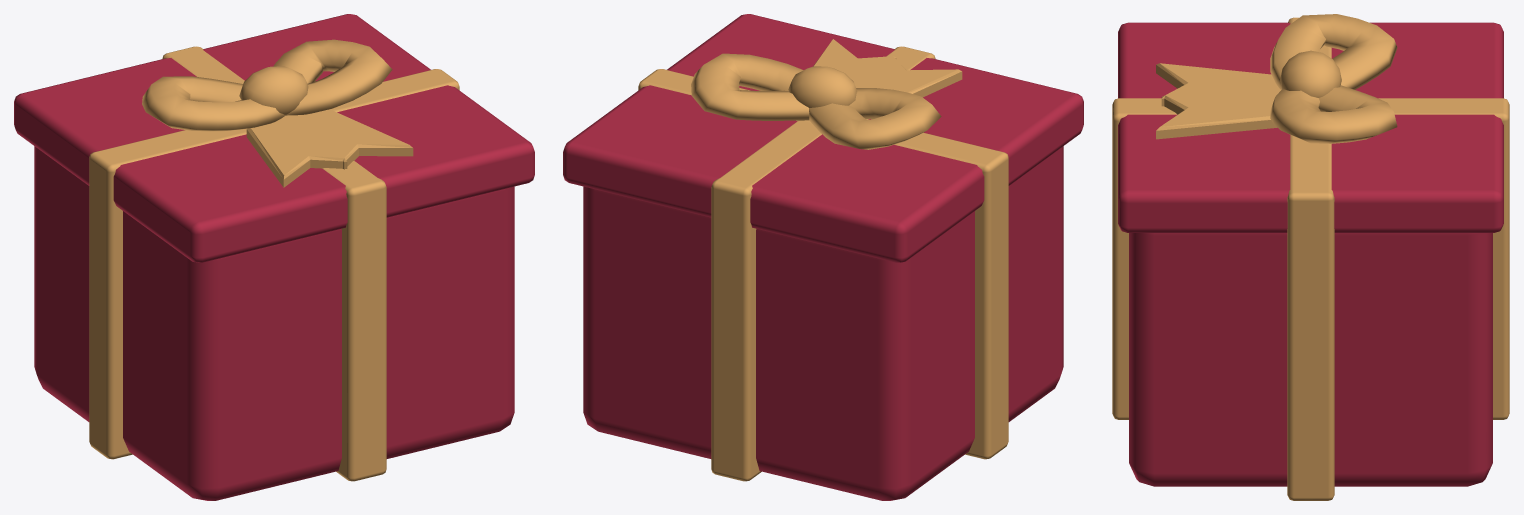
Rendered from storybook-christmas-market-ribbon-wrapped-gift-27974c86__19714.glb.
The picture shows the model from 3 angles, left to right: view 1: azimuth 30°, elevation 25°; view 2: azimuth 150°, elevation 25°; view 3: azimuth 270°, elevation 25°; orthographic projection. The views are drawn at different scales.
Visible parts, largest first — view 1: ribbon-wrapped-gift; view 2: ribbon-wrapped-gift; view 3: ribbon-wrapped-gift.
Part boxes in pixels (bbox=[...]): ribbon-wrapped-gift: bbox=[14, 14, 534, 500]; ribbon-wrapped-gift: bbox=[563, 14, 1083, 500]; ribbon-wrapped-gift: bbox=[1112, 14, 1509, 500].
Bounding box in the file's own units: 0.585 × 0.5421 × 0.545.
